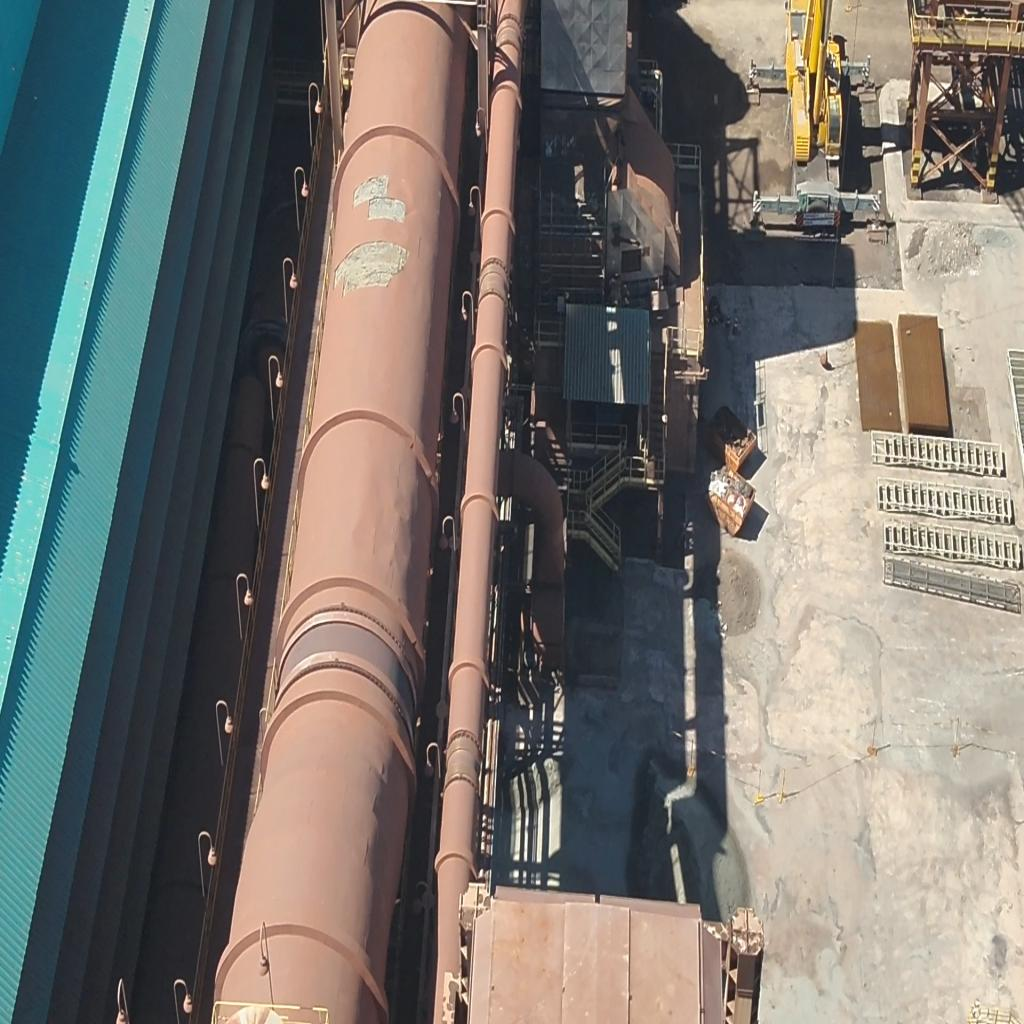Failures: (326, 240, 412, 299), (352, 177, 411, 229)
